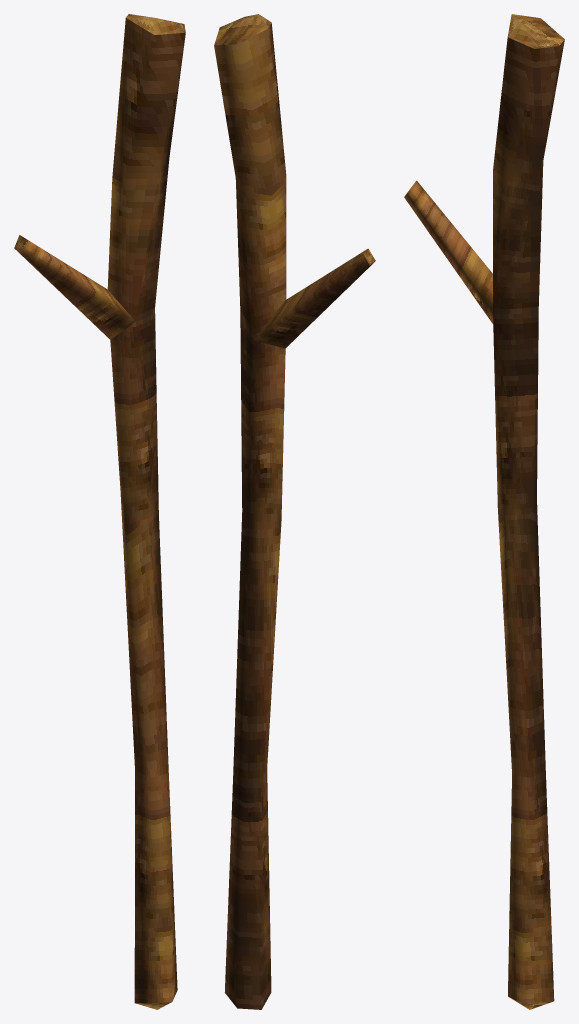
The model's file is lc_stick_model.obj.
3 views of the same model, side by side, from view 1: azimuth 30°, elevation 25°; view 2: azimuth 150°, elevation 25°; view 3: azimuth 330°, elevation 25° (orthographic).
Parts seen in each view (by area): view 1: nodes_2__meshes[0]; view 2: nodes_2__meshes[0]; view 3: nodes_2__meshes[0].
Boxes of the visible parts, x1=… form: nodes_2__meshes[0]: x1=14, y1=14, x2=185, y2=1009; nodes_2__meshes[0]: x1=214, y1=14, x2=375, y2=1009; nodes_2__meshes[0]: x1=404, y1=14, x2=564, y2=1009.
Bounding box in the file's own units: 948 × 5630 × 324.
